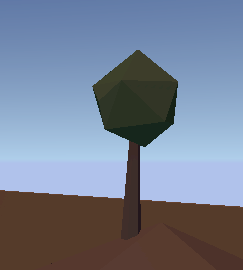tree: (92, 42, 180, 245), (92, 42, 180, 244)
